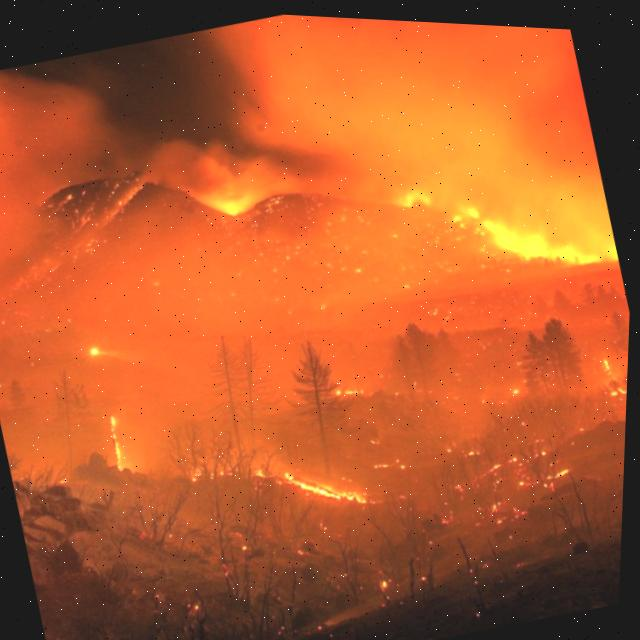fire: (456, 173, 621, 289)
smoke: (0, 11, 632, 640)
